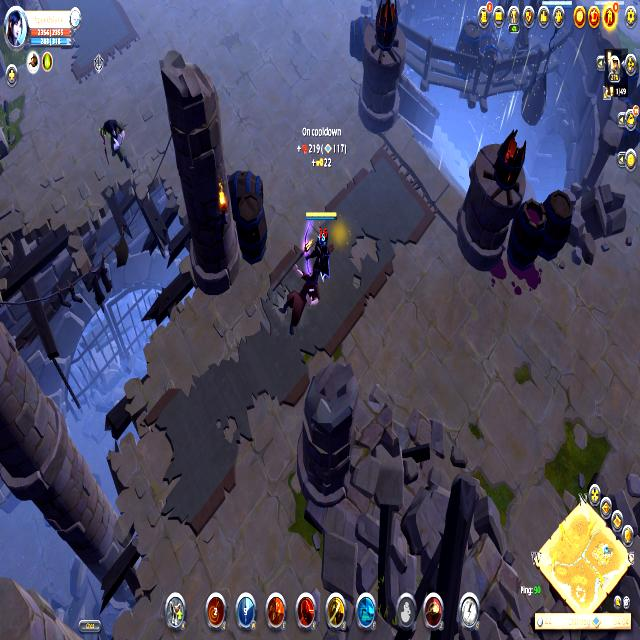ore: (89, 49, 142, 184)
red: (304, 204, 338, 285)
